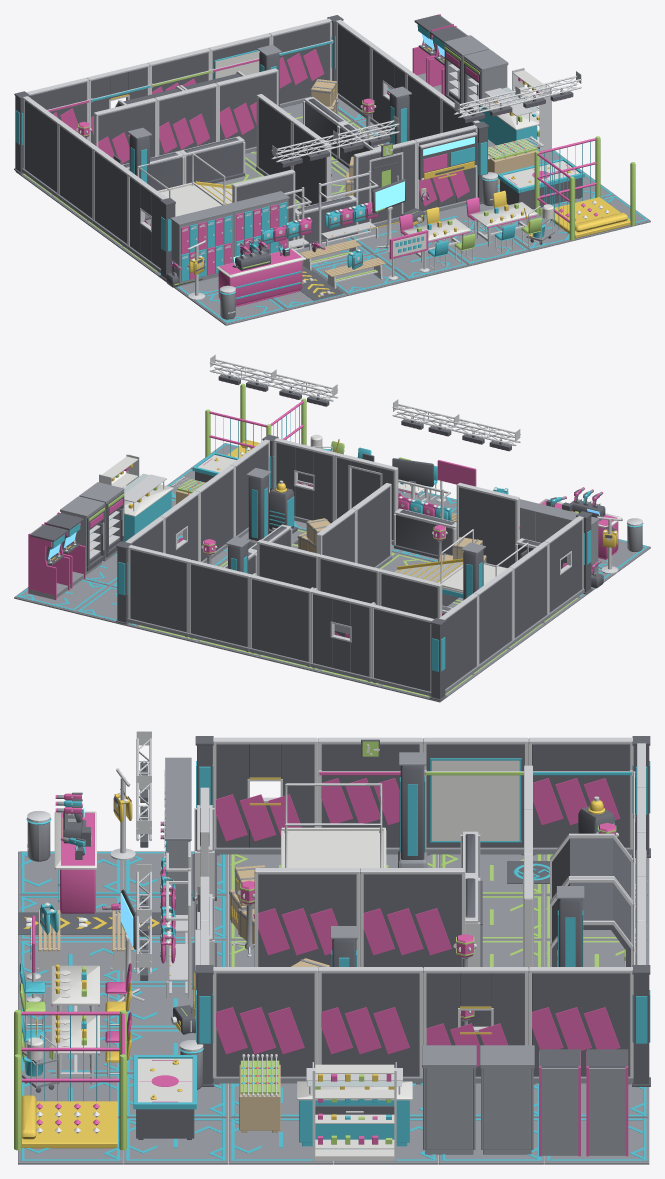
Rendered from laser-tag-arena-and-activity-centre-lase-635247a0-starter-scene__34513.glb.
3 renders of one model, top to bottom at view 1: azimuth 30°, elevation 25°; view 2: azimuth 150°, elevation 25°; view 3: azimuth 270°, elevation 25°, orthographic. The views are drawn at different scales.
Parts seen in each view (by area): view 1: 101-reception-desk-with-screen/0, 050-arena-wall-panel-module/0, 056-arena-wall-panel-module/0, 057-arena-mirror-panel-module/0, 058-arena-wall-panel-module/0, 060-arena-wall-panel-module/0, 065-arena-wall-panel-module/0, 070-arena-barricade-low/0, 059-arena-wall-panel-with-shooting-port/0, 066-arena-wall-panel-module/0, 067-arena-wall-panel-module/0, 133-soft-play-frame-corner/3 (+97 smaller); view 2: 049-arena-mirror-panel-module/0, 050-arena-wall-panel-module/0, 048-arena-wall-panel-module/0, 046-arena-wall-panel-module/0, 047-arena-wall-panel-with-shooting-port/0, 052-arena-wall-panel-module/0, 055-arena-wall-panel-with-shooting-port/0, 058-arena-wall-panel-module/0, 057-arena-mirror-panel-module/0, 056-arena-wall-panel-module/0, 068-arena-wall-panel-module/0, 062-arena-wall-panel-module/0 (+60 smaller); view 3: 063-arena-wall-panel-module/0, 057-arena-mirror-panel-module/3, 062-arena-wall-panel-module/0, 067-arena-wall-panel-module/0, 059-arena-wall-panel-with-shooting-port/0, 128-vending-machine/0, 129-vending-machine/0, 056-arena-wall-panel-module/0, 068-arena-wall-panel-module/0, 061-arena-wall-panel-with-shooting-port/0, 060-arena-wall-panel-module/0, 130-prize-counter-with-shelving/1 (+109 smaller).
Boxes of the visible parts, x1=… form: 101-reception-desk-with-screen/0: x1=218, y1=249, x2=302, y2=306; 050-arena-wall-panel-module/0: x1=273, y1=22, x2=329, y2=103; 056-arena-wall-panel-module/0: x1=24, y1=100, x2=56, y2=192; 057-arena-mirror-panel-module/0: x1=59, y1=126, x2=91, y2=217; 058-arena-wall-panel-module/0: x1=94, y1=152, x2=126, y2=243; 060-arena-wall-panel-module/0: x1=337, y1=24, x2=369, y2=110; 065-arena-wall-panel-module/0: x1=159, y1=87, x2=215, y2=155; 070-arena-barricade-low/0: x1=184, y1=137, x2=244, y2=183; 059-arena-wall-panel-with-shooting-port/0: x1=130, y1=177, x2=160, y2=268; 066-arena-wall-panel-module/0: x1=220, y1=72, x2=276, y2=148; 067-arena-wall-panel-module/0: x1=258, y1=98, x2=290, y2=174; 133-soft-play-frame-corner/3: x1=550, y1=197, x2=630, y2=238; 049-arena-mirror-panel-module/0: x1=191, y1=564, x2=247, y2=646; 050-arena-wall-panel-module/0: x1=130, y1=549, x2=186, y2=632; 048-arena-wall-panel-module/0: x1=252, y1=579, x2=308, y2=661; 046-arena-wall-panel-module/0: x1=374, y1=608, x2=430, y2=691; 047-arena-wall-panel-with-shooting-port/0: x1=313, y1=594, x2=369, y2=676; 052-arena-wall-panel-module/0: x1=459, y1=487, x2=515, y2=567; 055-arena-wall-panel-with-shooting-port/0: x1=276, y1=442, x2=332, y2=523; 058-arena-wall-panel-module/0: x1=514, y1=546, x2=546, y2=637; 057-arena-mirror-panel-module/0: x1=479, y1=572, x2=511, y2=663; 056-arena-wall-panel-module/0: x1=445, y1=597, x2=476, y2=688; 068-arena-wall-panel-module/0: x1=357, y1=487, x2=389, y2=567; 062-arena-wall-panel-module/0: x1=201, y1=469, x2=233, y2=561; 063-arena-wall-panel-module/0: x1=216, y1=972, x2=314, y2=1076; 057-arena-mirror-panel-module/3: x1=432, y1=760, x2=519, y2=840; 062-arena-wall-panel-module/0: x1=321, y1=972, x2=419, y2=1076; 067-arena-wall-panel-module/0: x1=363, y1=873, x2=461, y2=967; 059-arena-wall-panel-with-shooting-port/0: x1=216, y1=743, x2=314, y2=847; 128-vending-machine/0: x1=480, y1=1045, x2=534, y2=1154; 129-vending-machine/0: x1=422, y1=1045, x2=476, y2=1154; 056-arena-wall-panel-module/0: x1=532, y1=743, x2=629, y2=847; 068-arena-wall-panel-module/0: x1=258, y1=873, x2=356, y2=966; 061-arena-wall-panel-with-shooting-port/0: x1=426, y1=972, x2=524, y2=1076; 060-arena-wall-panel-module/0: x1=532, y1=972, x2=629, y2=1076; 130-prize-counter-with-shelving/1: x1=297, y1=1064, x2=412, y2=1160.
Bounding box in the file's own units: 14.16 × 3.96 × 12.11.
